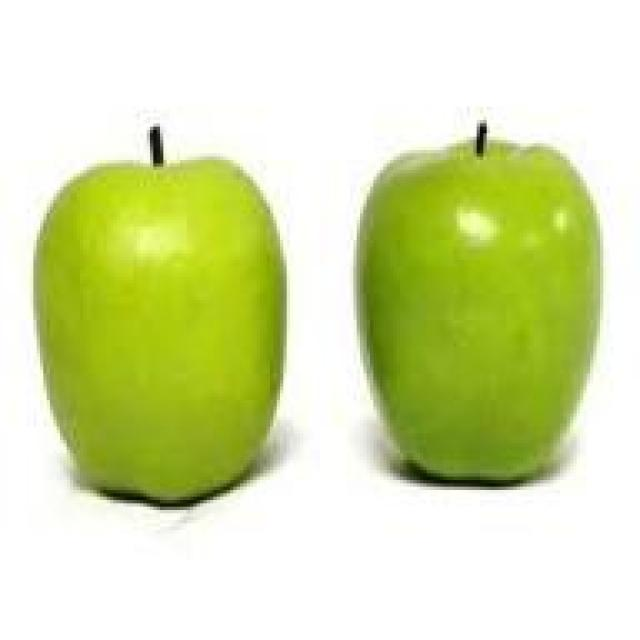apple: (36, 144, 276, 494), (363, 147, 590, 480)
